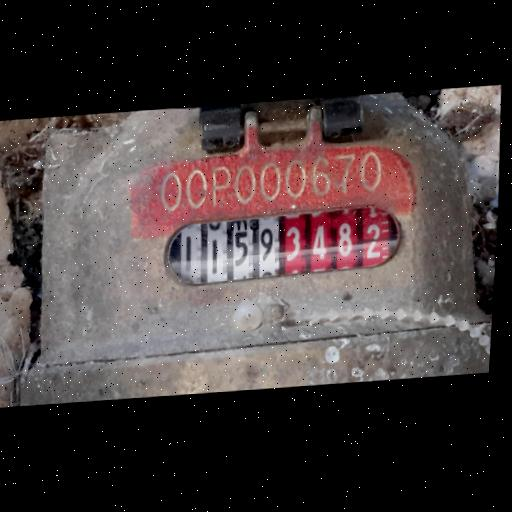1: (177, 223, 204, 285), (203, 220, 230, 282)
2: (358, 203, 392, 267)
3: (278, 212, 308, 276)
4: (303, 211, 335, 274)
5: (226, 219, 255, 280)
8: (330, 208, 362, 271)
9: (253, 216, 283, 279)
border_water_meter_number: (159, 201, 405, 288)
